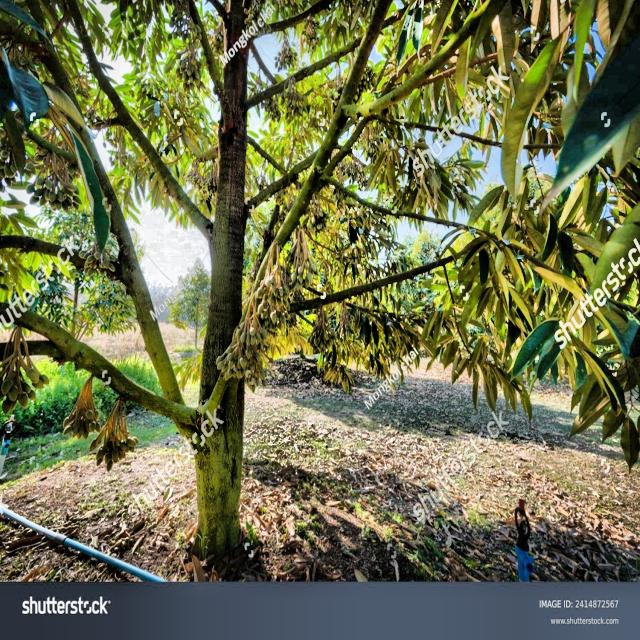arvore: (170, 0, 269, 553)
